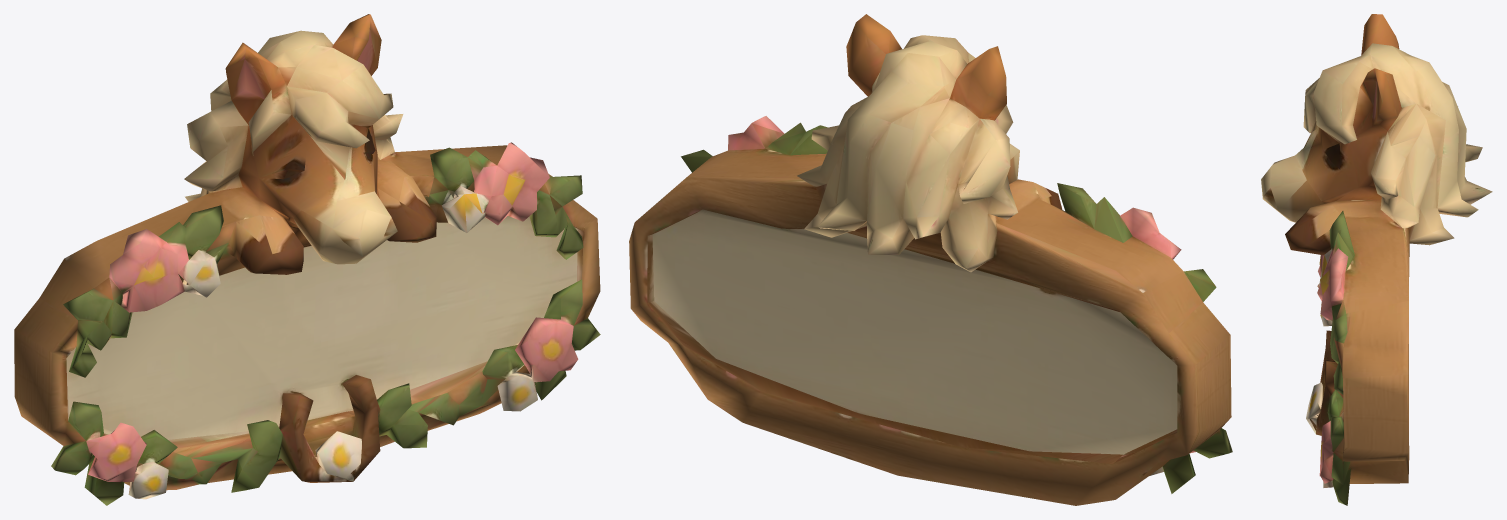
The picture shows the model from 3 angles, left to right: view 1: azimuth 30°, elevation 25°; view 2: azimuth 150°, elevation 25°; view 3: azimuth 270°, elevation 25°; orthographic projection. The views are drawn at different scales.
Visible parts, largest first — view 1: plate-flower-pony; view 2: plate-flower-pony; view 3: plate-flower-pony.
Part boxes in pixels (bbox=[...]): plate-flower-pony: bbox=[14, 14, 600, 505]; plate-flower-pony: bbox=[629, 14, 1232, 505]; plate-flower-pony: bbox=[1261, 14, 1492, 505].
Size of the model in its own units: 1.2 by 0.8955 by 0.4829.
1 material, 1 textured.
